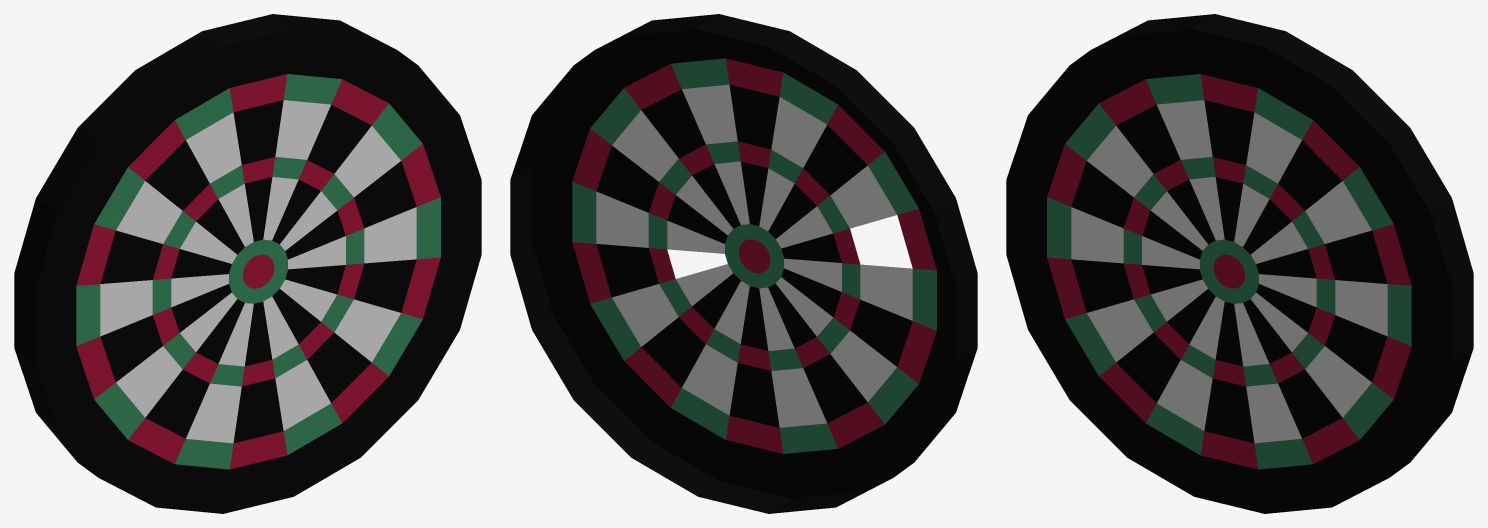
The model's file is Dart_tarcza.fbx.
3 views of the same model, side by side, from view 1: azimuth 30°, elevation 25°; view 2: azimuth 150°, elevation 25°; view 3: azimuth 330°, elevation 25° (orthographic).
Parts seen in each view (by area): view 1: Dart tarcza; view 2: Dart tarcza; view 3: Dart tarcza.
Boxes of the visible parts, <box> form: Dart tarcza: <box>14,14,481,513</box>; Dart tarcza: <box>510,14,977,513</box>; Dart tarcza: <box>1006,14,1473,513</box>.
Bounding box in the file's own units: 40.53 × 40.53 × 3.32.
